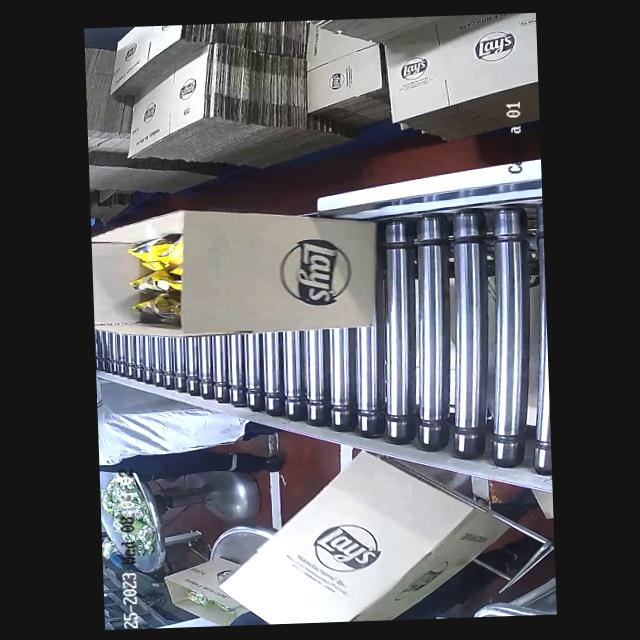salted: (114, 228, 203, 318)
